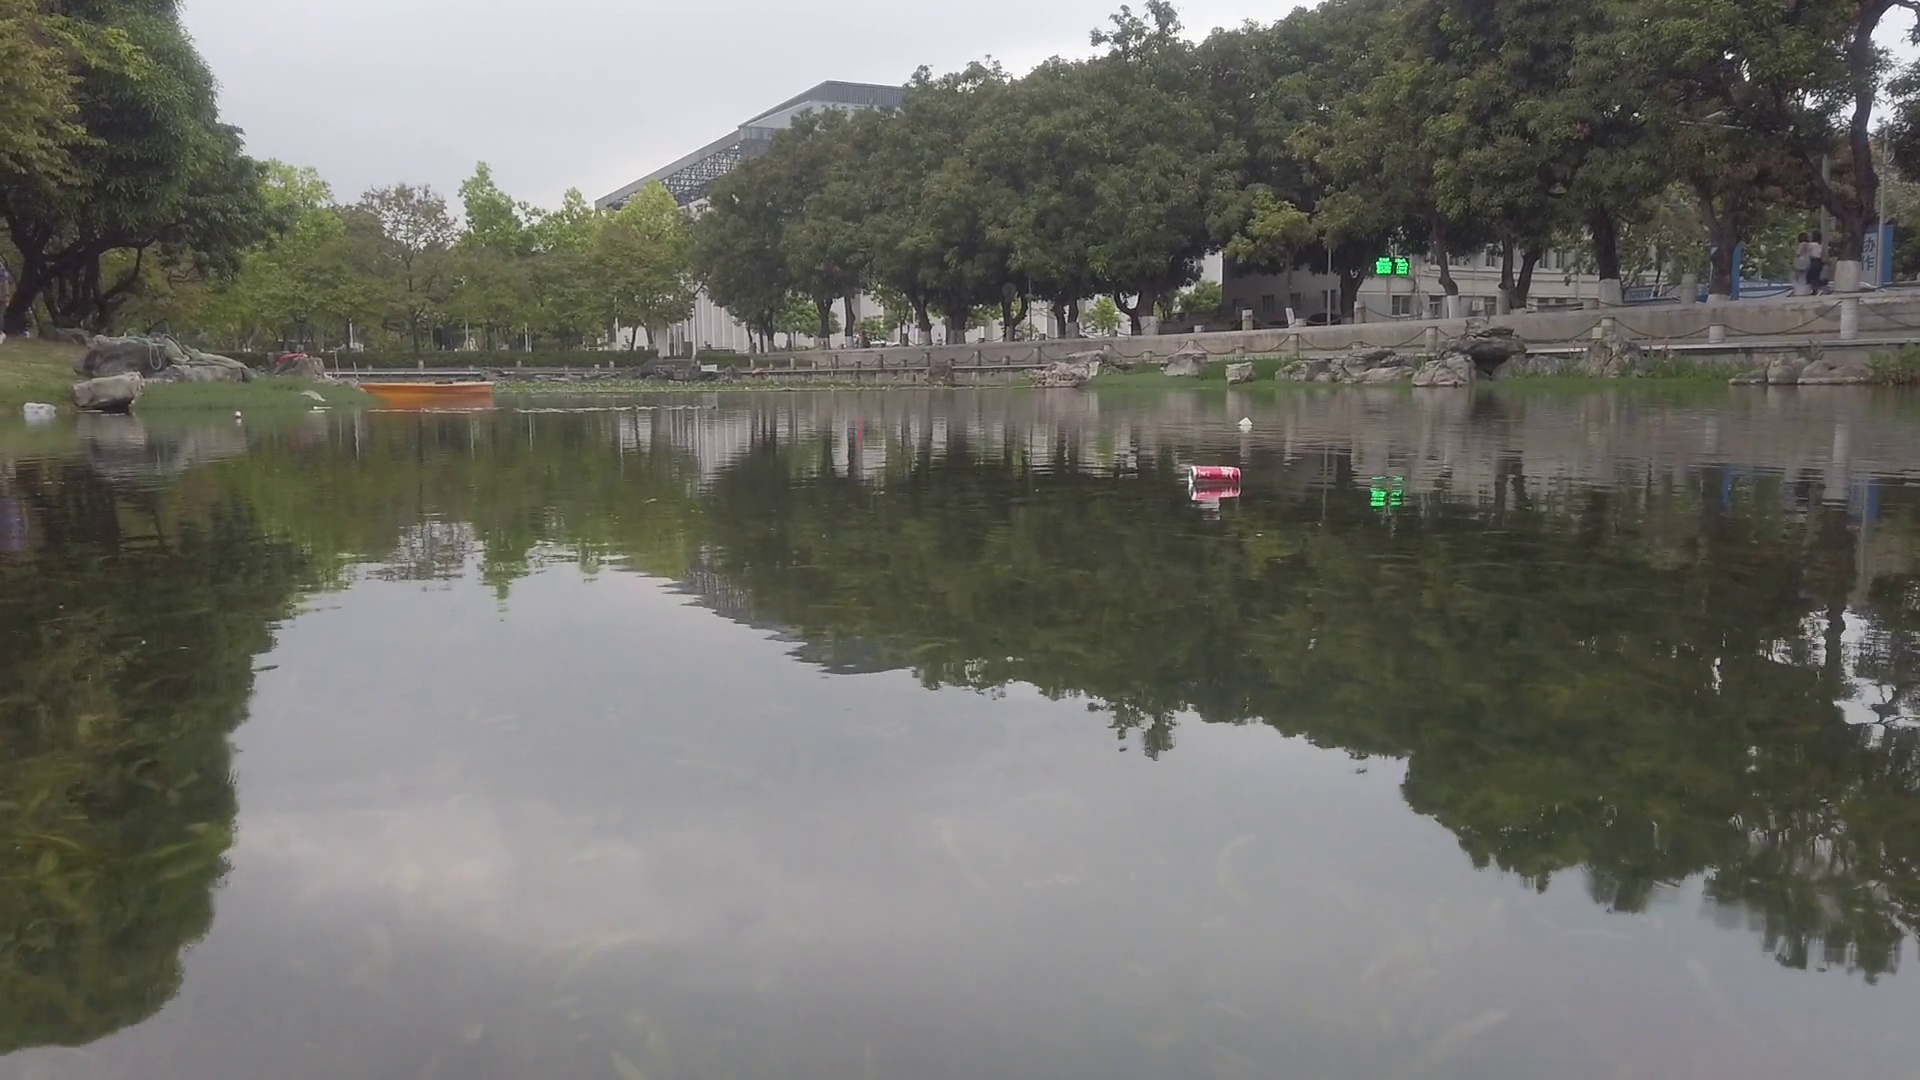bottle: (1188, 464, 1241, 491), (235, 409, 244, 418)
carton: (1238, 415, 1253, 429)
